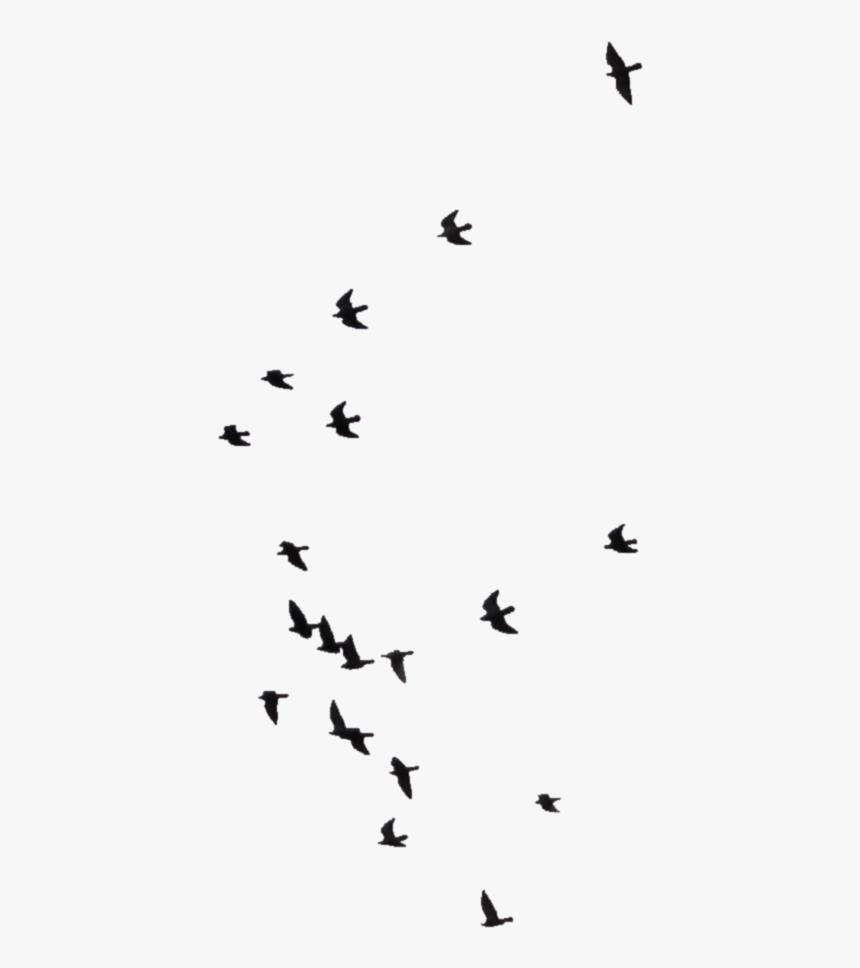bird: (414, 192, 486, 264), (574, 503, 649, 567), (315, 276, 372, 344), (307, 395, 370, 450), (262, 519, 312, 574)
